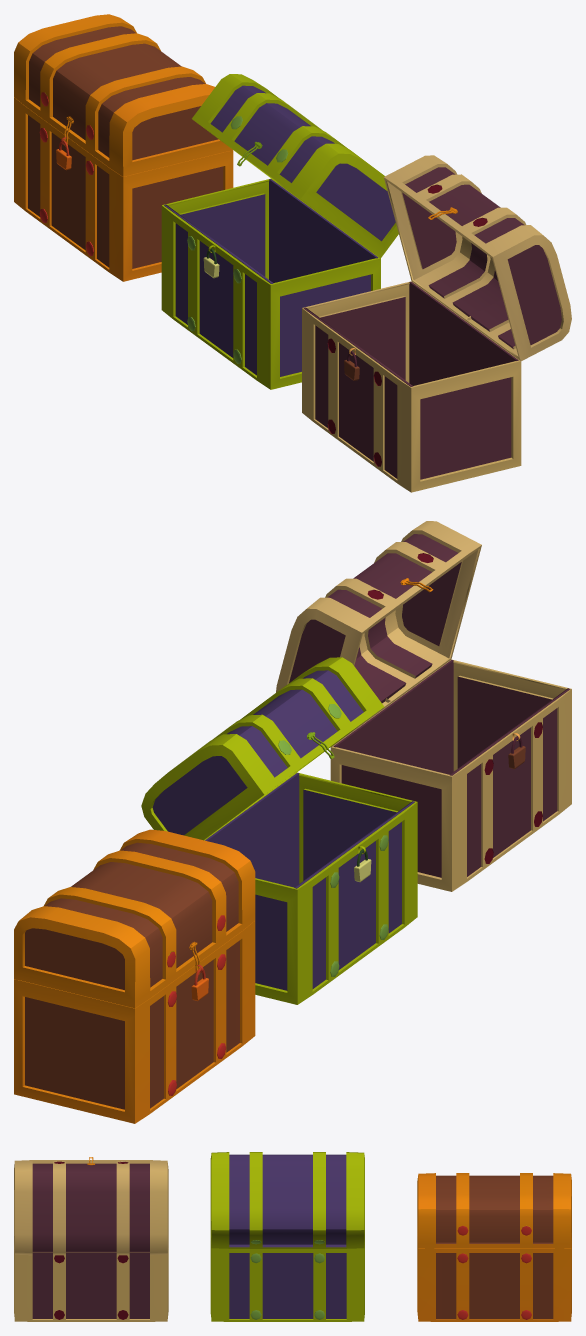
The model's file is lowpoly_treasure-chests.glb.
The picture shows the model from 3 angles, top to bottom: view 1: azimuth 30°, elevation 25°; view 2: azimuth 150°, elevation 25°; view 3: azimuth 270°, elevation 25°; orthographic projection. The views are drawn at different scales.
Visible parts, largest first — view 1: Chest-Body-3, Chest-Body-2, Chest-Head, Chest-Head-3, Chest-Body, Chest-Head-2; view 2: Chest-Body-3, Chest-Body-2, Chest-Head, Chest-Body, Chest-Head-3, Chest-Head-2; view 3: Chest-Head-2, Chest-Head-3, Chest-Head, Chest-Body, Chest-Body-2, Chest-Body-3, Chest-Body-Details, Chest-Body-Details-2, Chest-Body-Details-3.
Boxes of the visible parts, <box> form: Chest-Body-3: <box>302,281,521,492</box>; Chest-Body-2: <box>161,178,380,389</box>; Chest-Head: <box>14,14,232,176</box>; Chest-Head-3: <box>383,155,571,361</box>; Chest-Body: <box>14,97,233,281</box>; Chest-Head-2: <box>192,74,398,258</box>; Chest-Body-3: <box>330,659,571,891</box>; Chest-Body-2: <box>204,772,417,1004</box>; Chest-Head: <box>14,829,255,1008</box>; Chest-Body: <box>14,921,255,1123</box>; Chest-Head-3: <box>276,521,481,747</box>; Chest-Head-2: <box>141,657,384,840</box>; Chest-Head-2: <box>210,1152,364,1248</box>; Chest-Head-3: <box>14,1160,168,1255</box>; Chest-Head: <box>417,1173,571,1248</box>; Chest-Body: <box>417,1236,571,1321</box>; Chest-Body-2: <box>210,1241,364,1321</box>; Chest-Body-3: <box>14,1248,168,1321</box>; Chest-Body-Details: <box>457,1253,531,1319</box>; Chest-Body-Details-2: <box>250,1253,324,1319</box>; Chest-Body-Details-3: <box>54,1255,128,1319</box>.
Bounding box in the file's own units: 1.62 × 2.09 × 6.6.
1 material, 1 textured.
